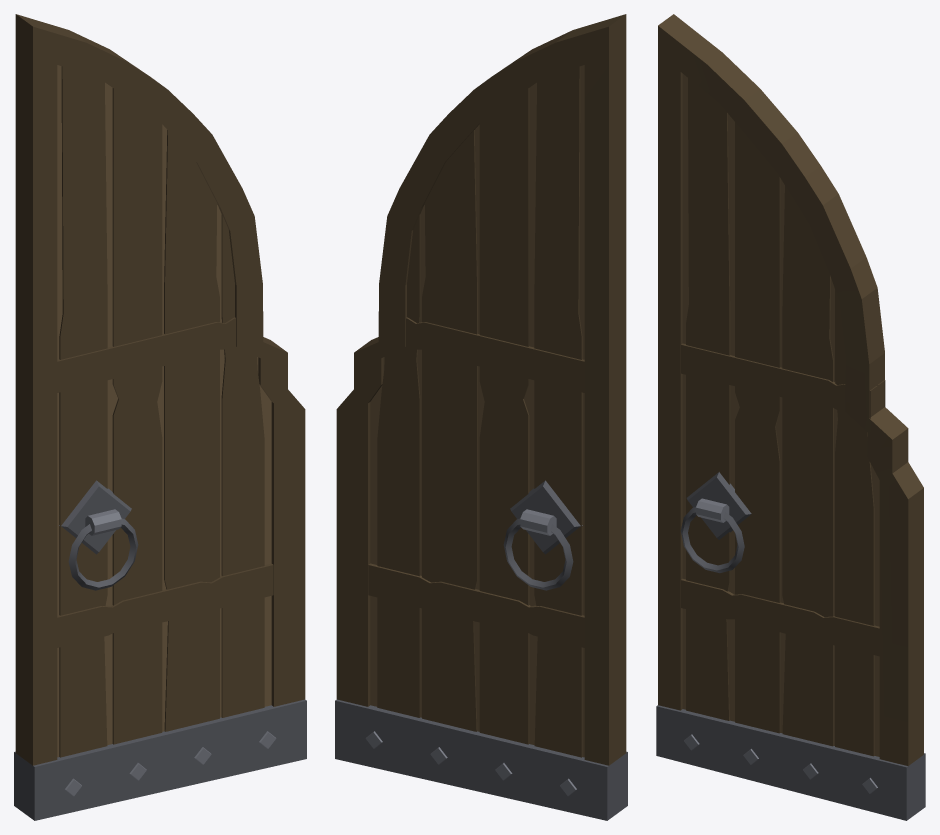
Rendered from Puerta Dch.fbx.
3 renders of one model, left to right at view 1: azimuth 30°, elevation 25°; view 2: azimuth 150°, elevation 25°; view 3: azimuth 330°, elevation 25°, orthographic. The views are drawn at different scales.
Visible parts, largest first — view 1: Doors_GothicArch_R; view 2: Doors_GothicArch_R; view 3: Doors_GothicArch_R.
Part boxes in pixels (box(x1,y1,x2,y2)): Doors_GothicArch_R: box(14, 14, 306, 820); Doors_GothicArch_R: box(335, 14, 627, 820); Doors_GothicArch_R: box(656, 14, 925, 820).
Bounding box in the file's own units: 115 × 321 × 27.43.
